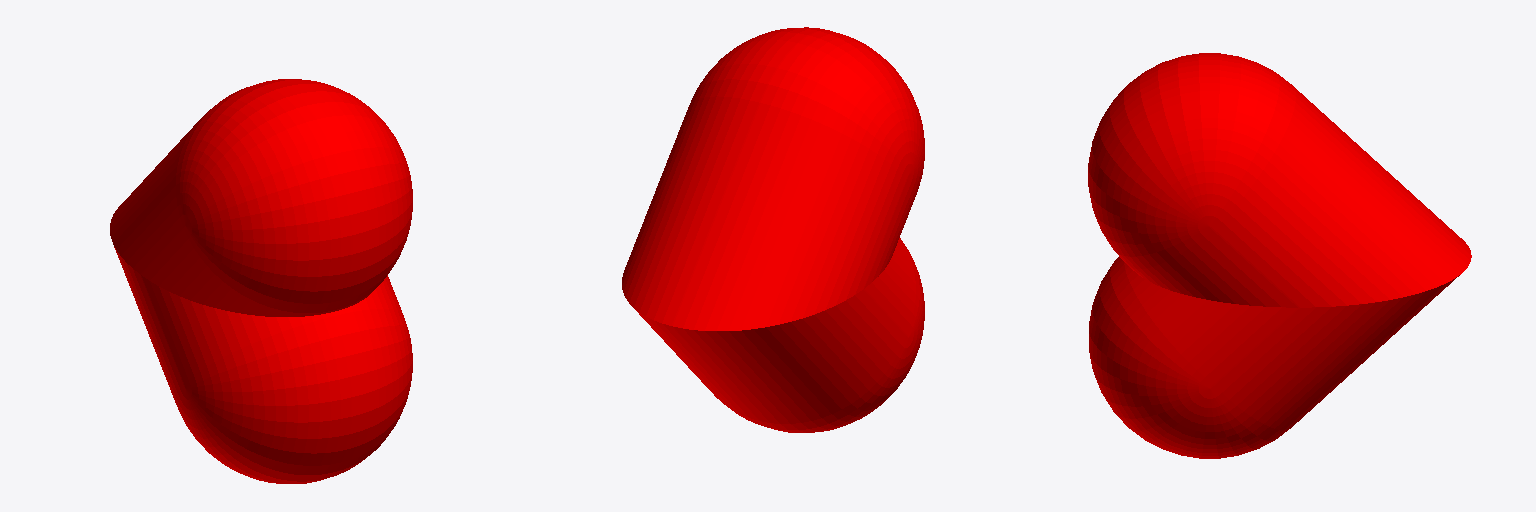
Rendered from Heart_Red.obj.
3 views of the same model, side by side, from view 1: azimuth 30°, elevation 25°; view 2: azimuth 150°, elevation 25°; view 3: azimuth 270°, elevation 25° (orthographic).
Visible parts, largest first — view 1: Plane.001; view 2: Plane.001; view 3: Plane.001.
Part boxes in pixels (x1,y1,x2,y2): Plane.001: (110,79,412,483); Plane.001: (622,27,924,432); Plane.001: (1088,53,1471,458).
Size of the model in its own units: 3.04 by 5.25 by 4.77.